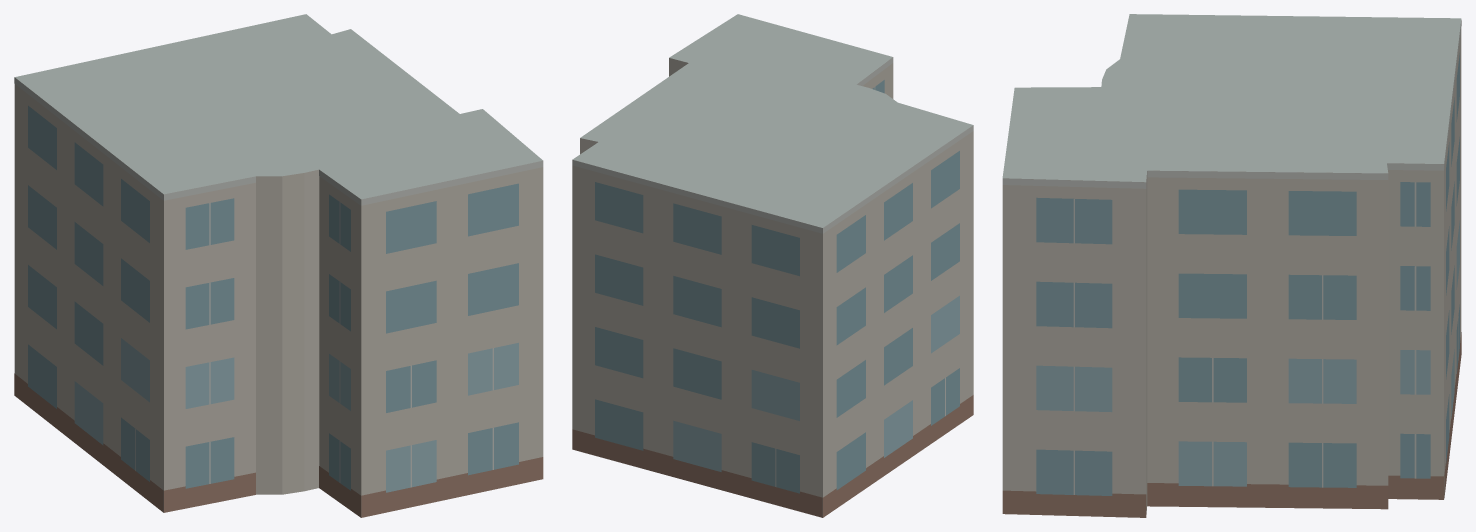
The model's file is survey-upis-32562797.glb.
3 renders of one model, left to right at view 1: azimuth 30°, elevation 25°; view 2: azimuth 150°, elevation 25°; view 3: azimuth 270°, elevation 25°, orthographic. The views are drawn at different scales.
Parts seen in each view (by area): view 1: survey-upis-32562797.tmp; view 2: survey-upis-32562797.tmp; view 3: survey-upis-32562797.tmp.
Boxes of the visible parts, x1,y1,x2,y2 form: survey-upis-32562797.tmp: (14,14,543,517); survey-upis-32562797.tmp: (572,14,973,517); survey-upis-32562797.tmp: (1002,14,1461,517).
Size of the model in its own units: 13.12 by 12.2 by 15.13.
